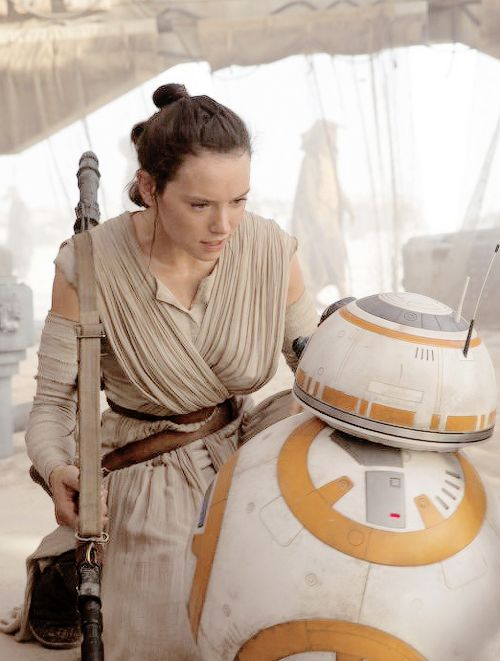bb8: (181, 291, 500, 660)
